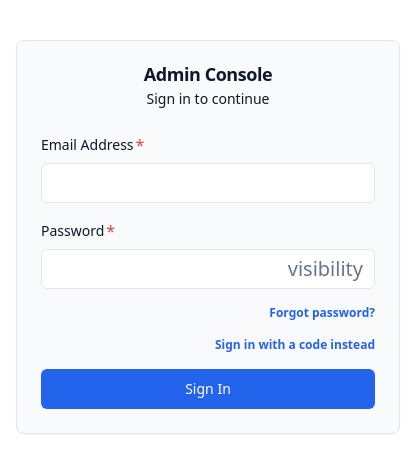
Test case: LoginForm › renders the translated message for unverified
In the field labelled "Email Address": point(208, 183) [41, 163, 375, 203], type "a@b.io"
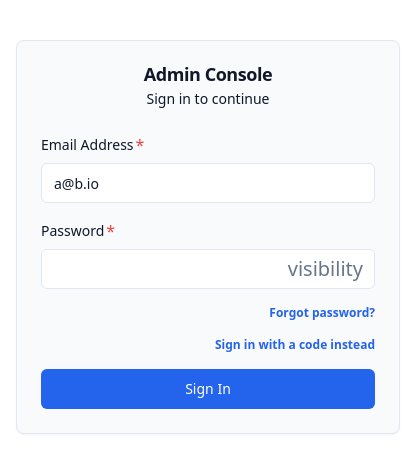
In the password field labelled "Password": point(208, 269) [41, 249, 375, 289], type "pw"
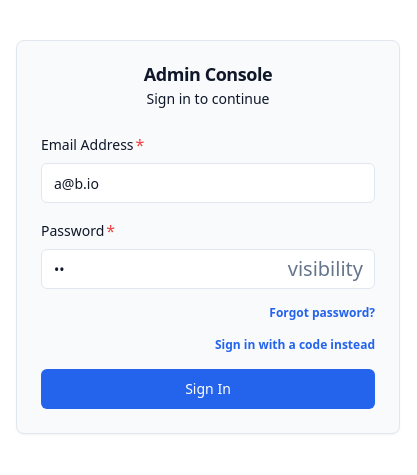
Submit the form, box [41, 133, 375, 409]
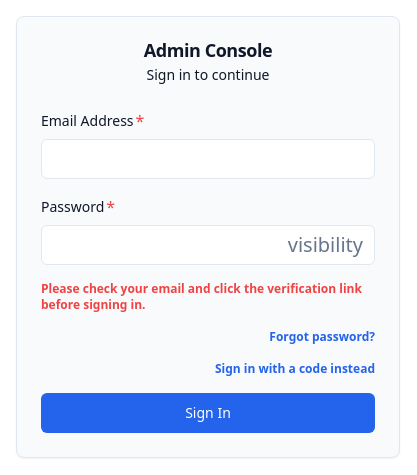
Check: the text with test id "login-error" reads "Please check your email and click the verification link before signing in.", box [41, 280, 362, 313]
